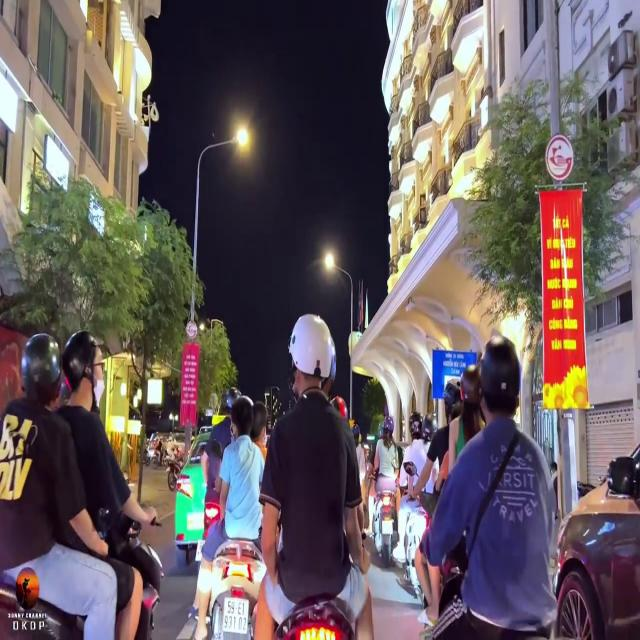bien_trang: (222, 595, 251, 635)
